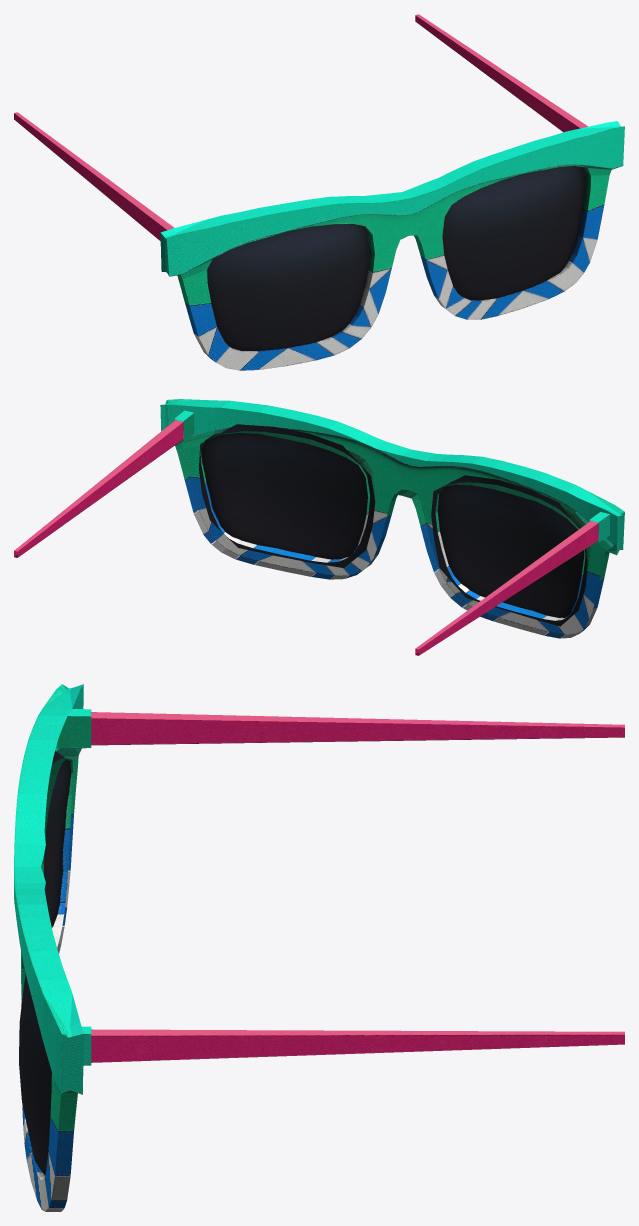
Rendered from glasses.fbx.
3 views of the same model, one above another, from view 1: azimuth 30°, elevation 25°; view 2: azimuth 150°, elevation 25°; view 3: azimuth 270°, elevation 25° (orthographic). The views are drawn at different scales.
Parts seen in each view (by area): view 1: frame_geo, lenses_geo, hands_geo; view 2: lenses_geo, frame_geo, hands_geo; view 3: hands_geo, frame_geo, lenses_geo.
Part boxes in pixels (left/top/right/bottom): frame_geo: left=160, top=121, right=624, bottom=370; lenses_geo: left=207, top=166, right=585, bottom=350; hands_geo: left=14, top=14, right=587, bottom=240; lenses_geo: left=199, top=424, right=587, bottom=626; frame_geo: left=160, top=399, right=624, bottom=638; hands_geo: left=14, top=410, right=609, bottom=655; hands_geo: left=57, top=709, right=624, bottom=1065; frame_geo: left=14, top=684, right=83, bottom=1211; lenses_geo: left=19, top=751, right=71, bottom=1175.
Bounding box in the file's own units: 16.22 × 5.3 × 11.94.
1 material, 1 textured.
